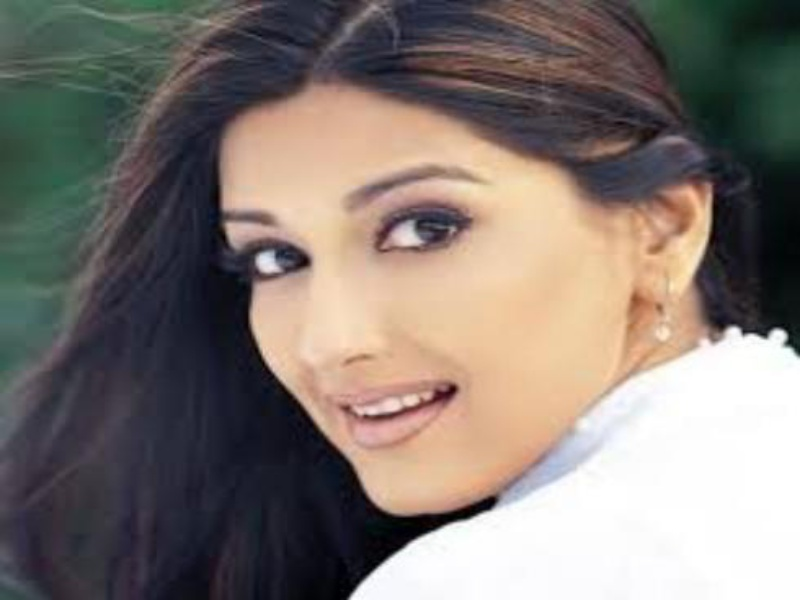TsisyArotava: (185, 58, 589, 516)
